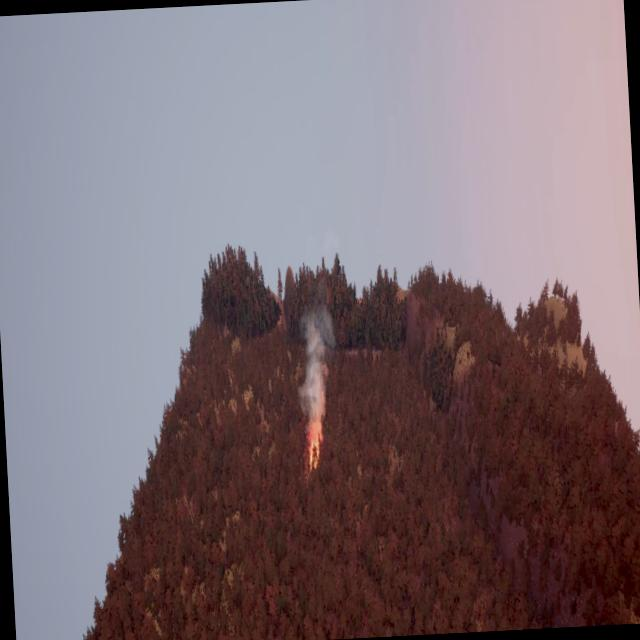fire: (306, 423, 325, 472)
smoke: (296, 305, 340, 427)
